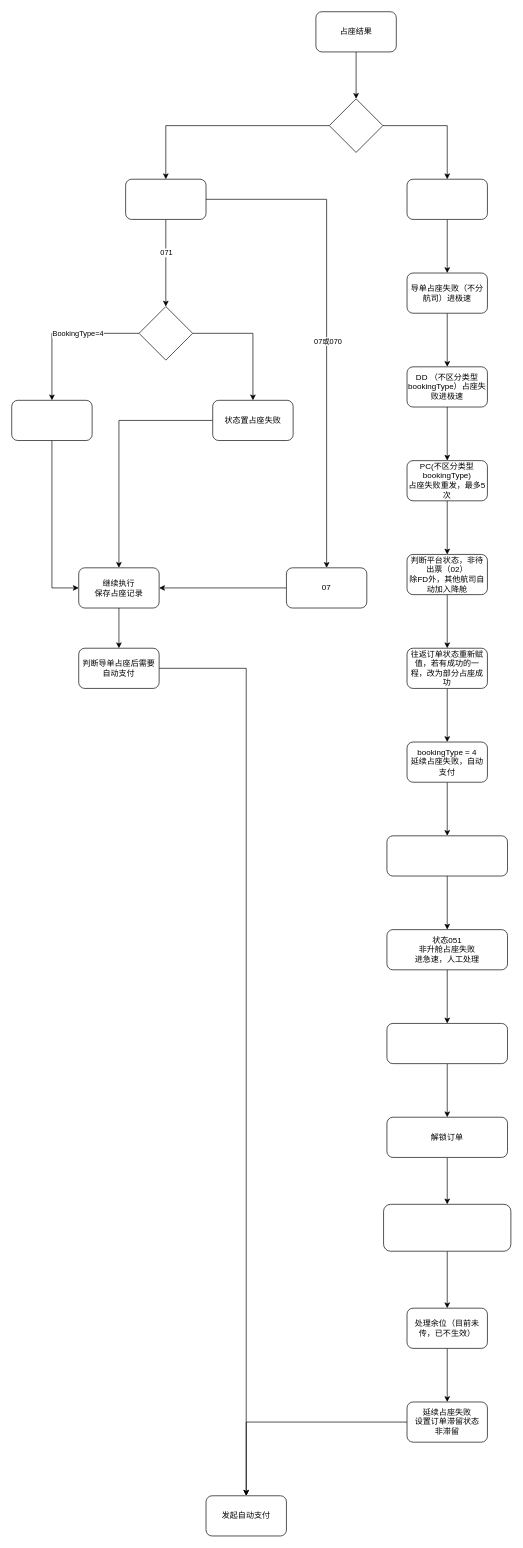
This 523x1548 diagram has some shape labels left out. Here are the shapes that lost their labels. From the top down, the centre of each, then its label:
At point (356, 125): "状态".
At point (165, 199): "07 071或070（非VJ）".
At point (446, 199): "05 050或051（VJ 071）".
At point (165, 333): "判断占座类型".
At point (51, 420): "重新发起占座任务".
At point (447, 855): "bookingType = 4 VJ,SL,DD,TR,Z9,UO,VU,6E,TO 延续占座失败， 自动支付".
At point (447, 1043): "FD && AutoPay == locker".
At point (447, 1227): "延续占座失败，进极速 FD、VJ、PC、UO、SL,VU,6E 延续可能成功，进极速 FD、PC、UO、SL".
